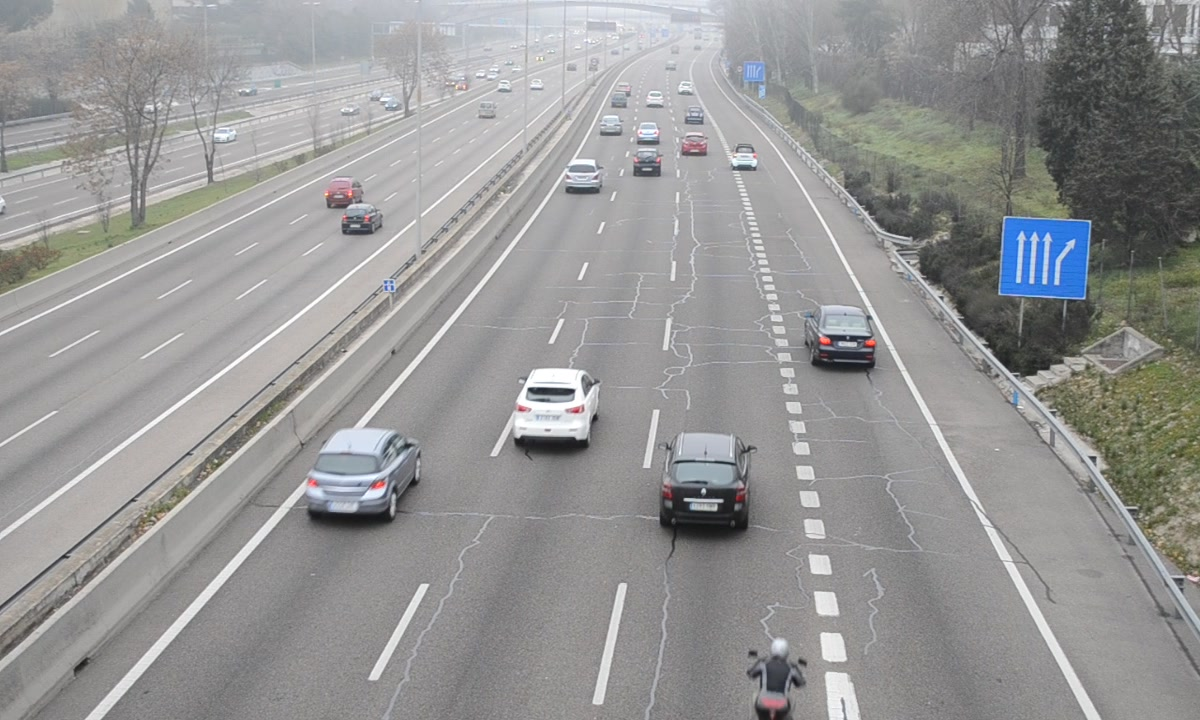car: (306, 428, 420, 521), (661, 434, 748, 534), (510, 370, 602, 446), (805, 305, 876, 370), (564, 159, 604, 194), (633, 147, 662, 177), (730, 141, 758, 172), (681, 132, 709, 157), (636, 121, 661, 146), (598, 114, 624, 138)
motorcycle: (743, 637, 809, 718)
